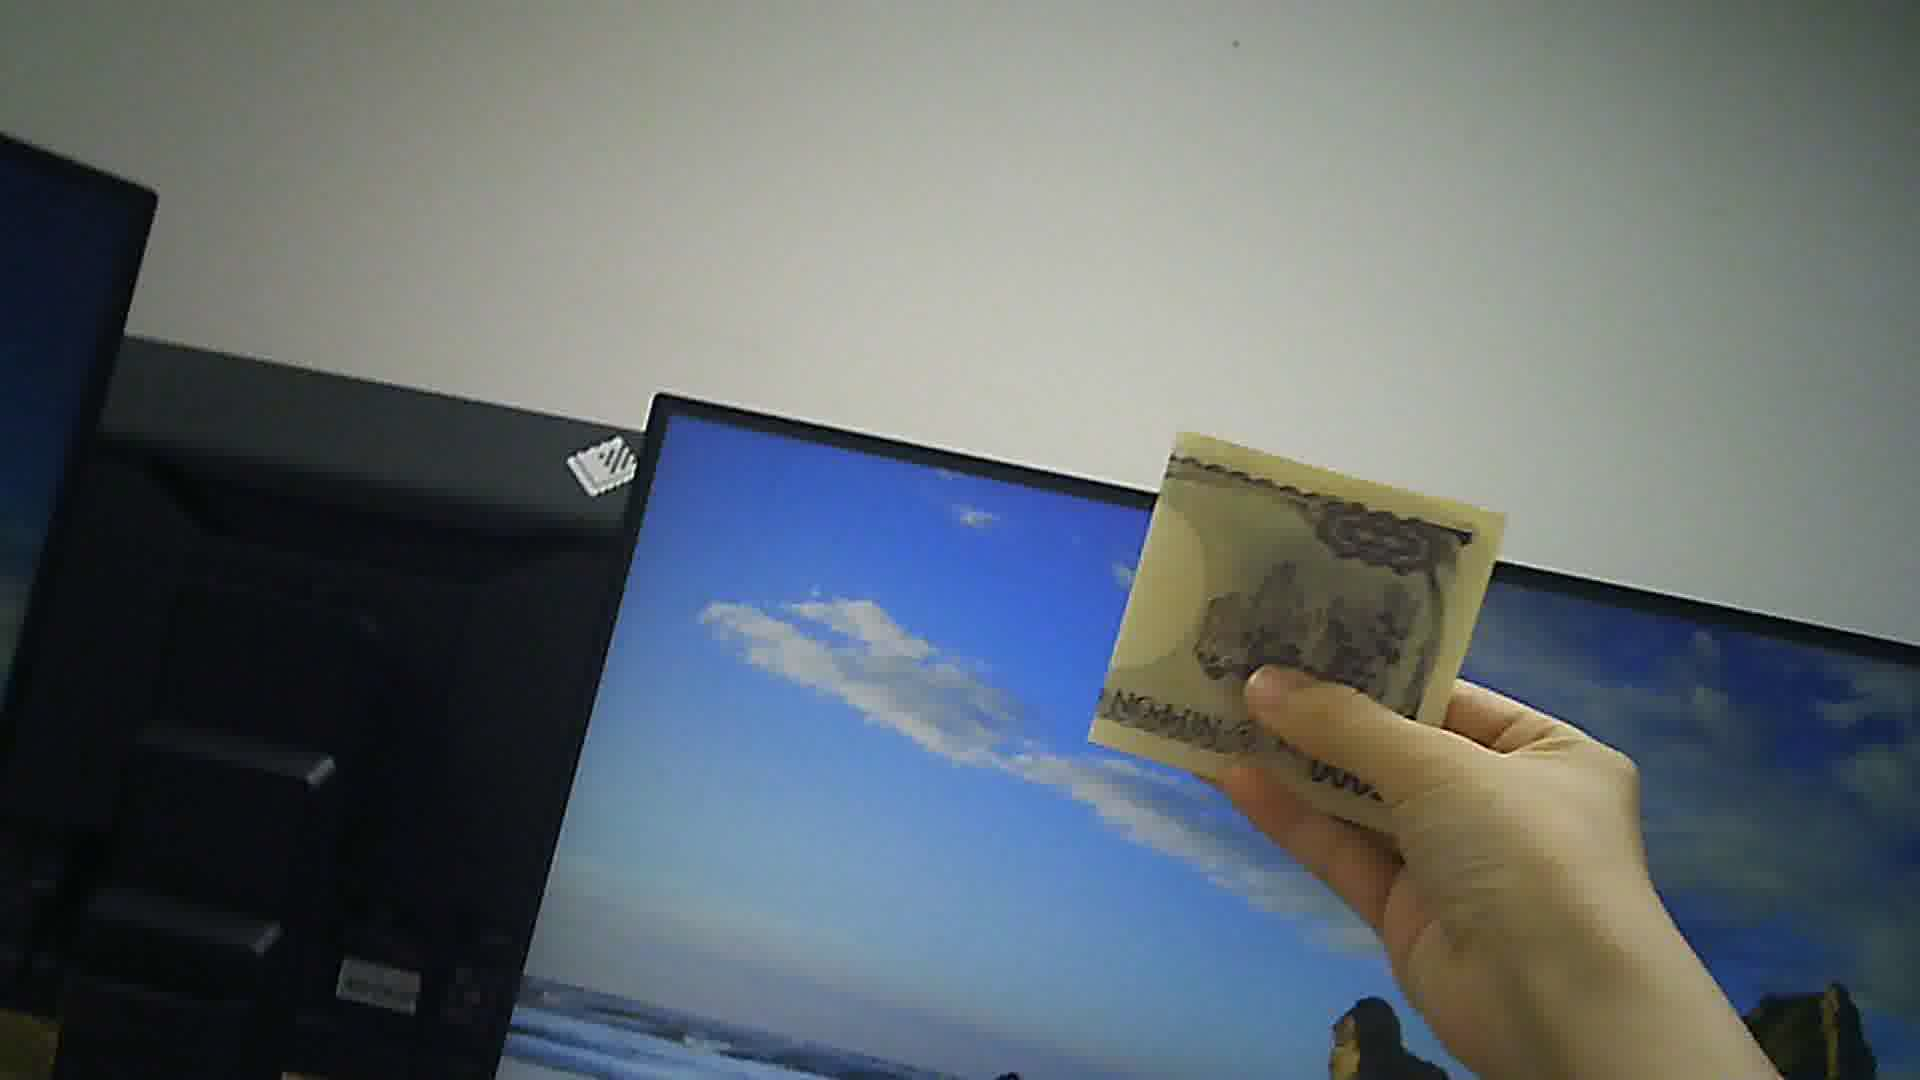5,000 Yen: (1102, 415, 1543, 845)
